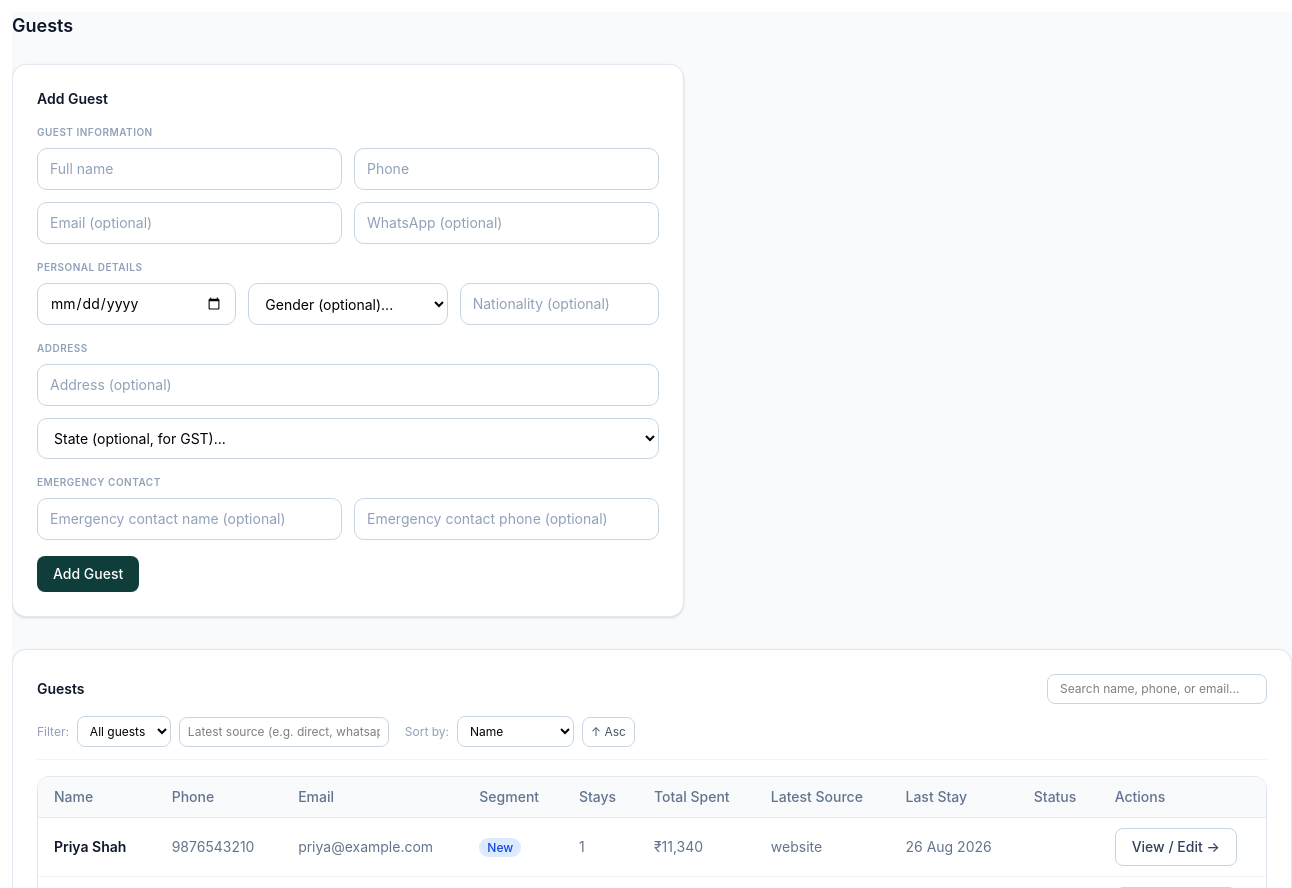
GuestsPage — UI polish › sort-by and sort-direction controls are still present and functional
Expected: the text "Priya Shah" is shown, [38,818,156,876]
Select "Total Spent" in the 4th dropdown at (516, 732), box [457,716,574,747]
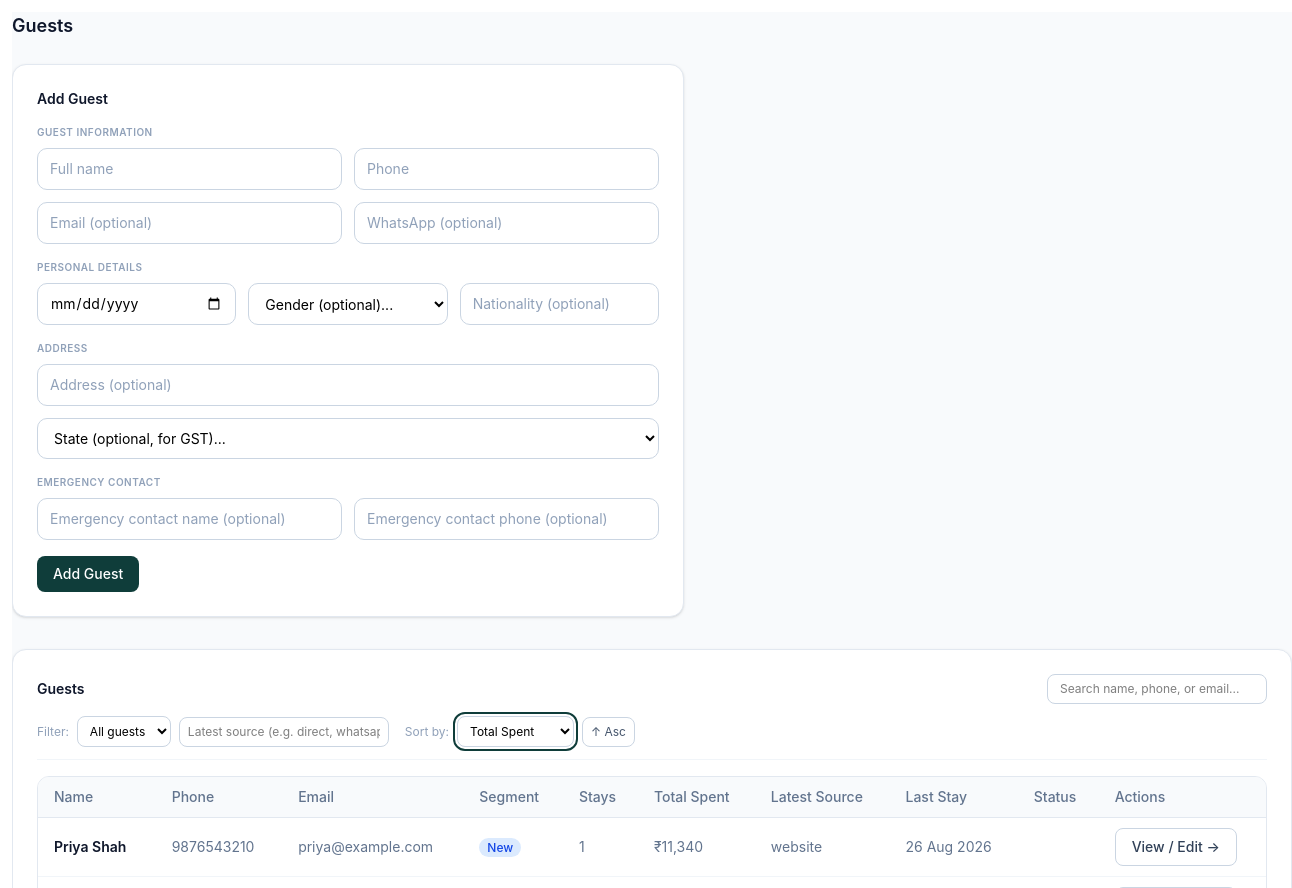
Click the button titled "Toggle sort direction" at (609, 732), box [582,716,635,746]
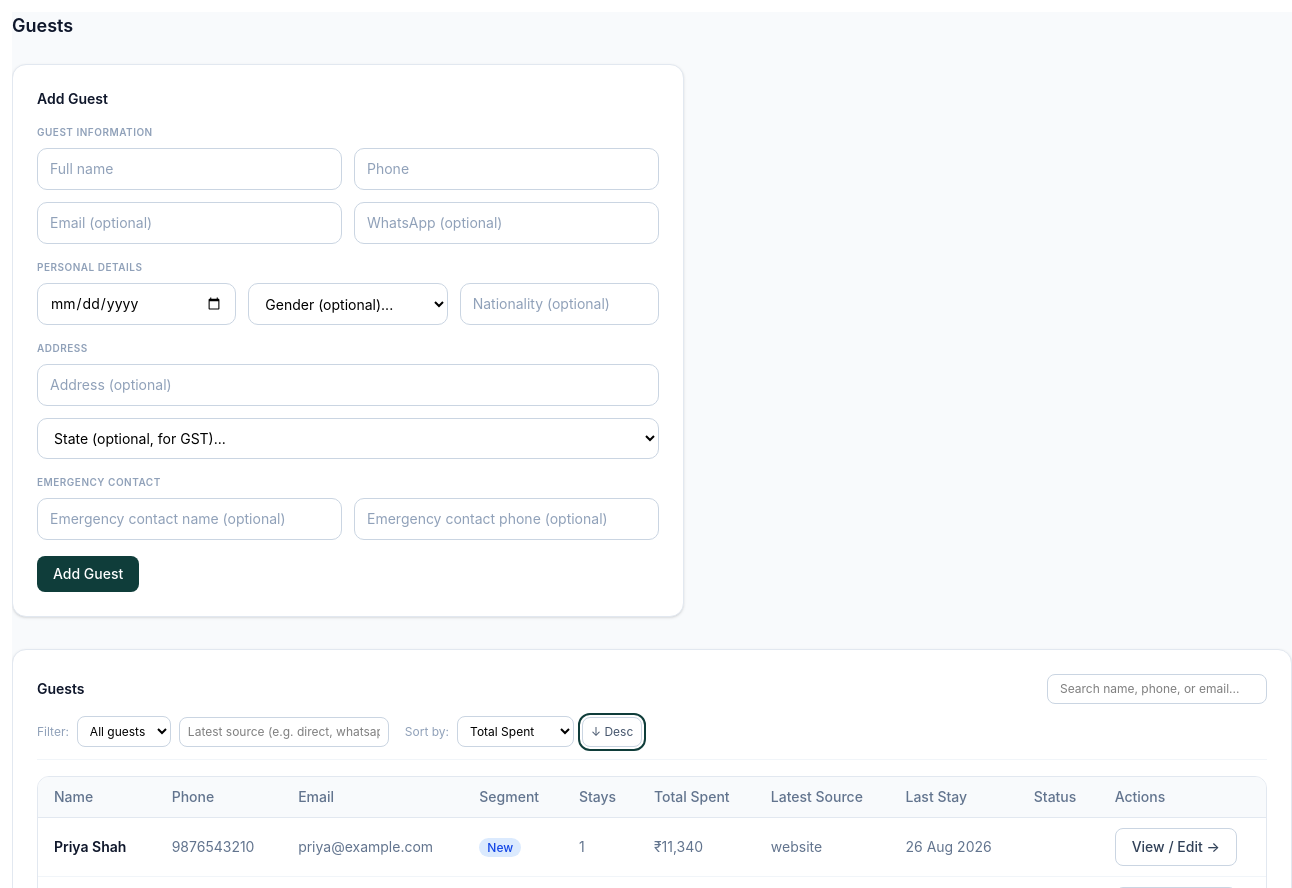
Expected: the button titled "Toggle sort direction" shows "Desc", [582,716,642,746]
